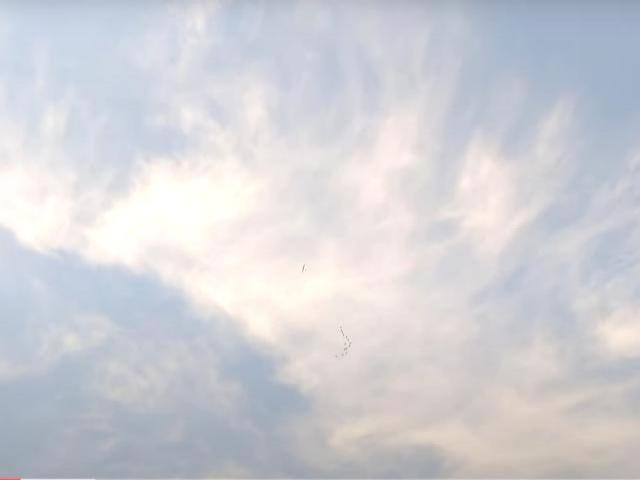iha: (302, 265, 306, 272)
